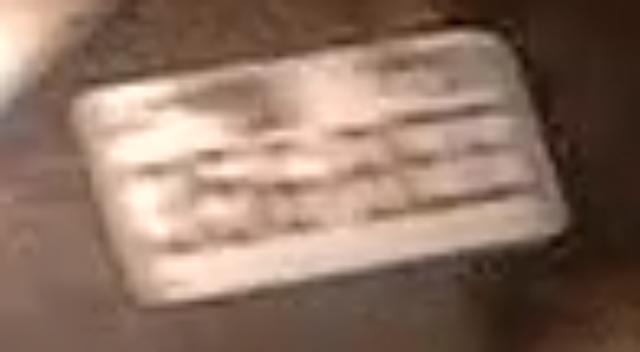plate: (72, 26, 562, 300)
